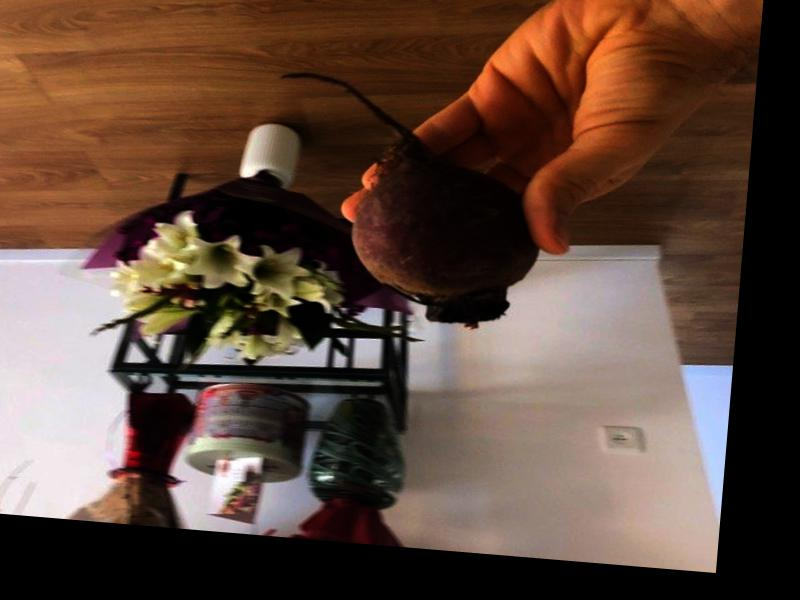Beet: (256, 71, 550, 331)
